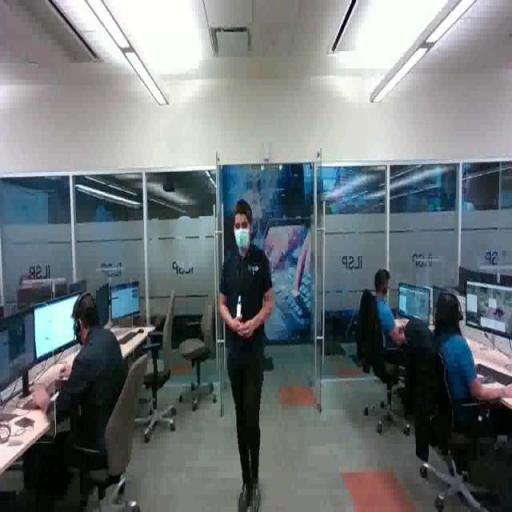person: (19, 294, 145, 512), (215, 198, 279, 512), (415, 291, 512, 490), (357, 266, 429, 388)
